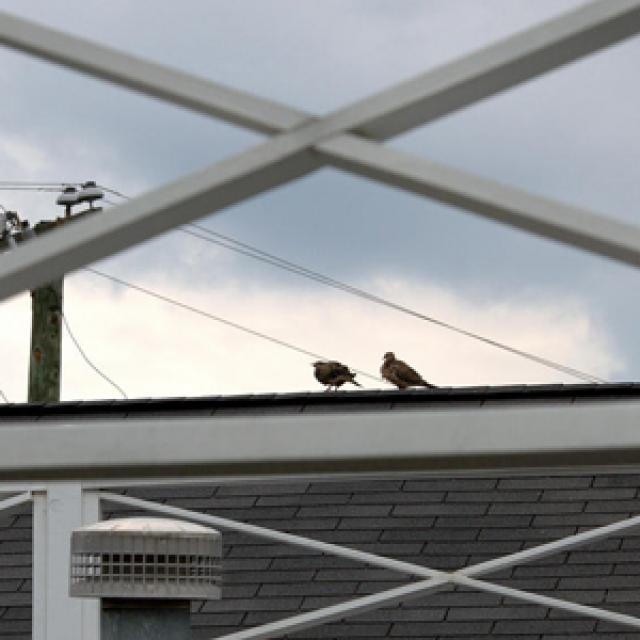bird: (380, 351, 435, 390), (311, 360, 362, 392)
